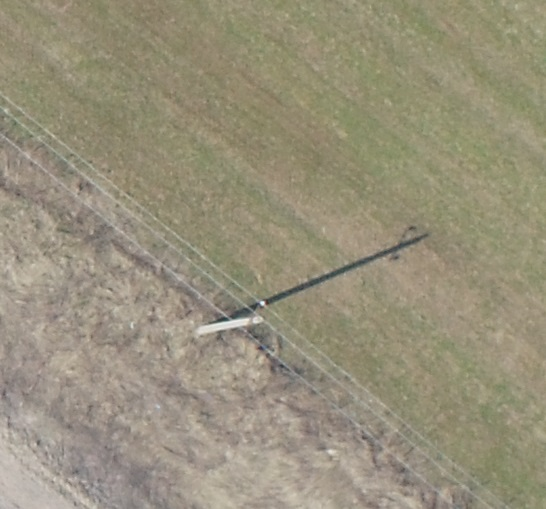opora: (194, 292, 292, 344)
